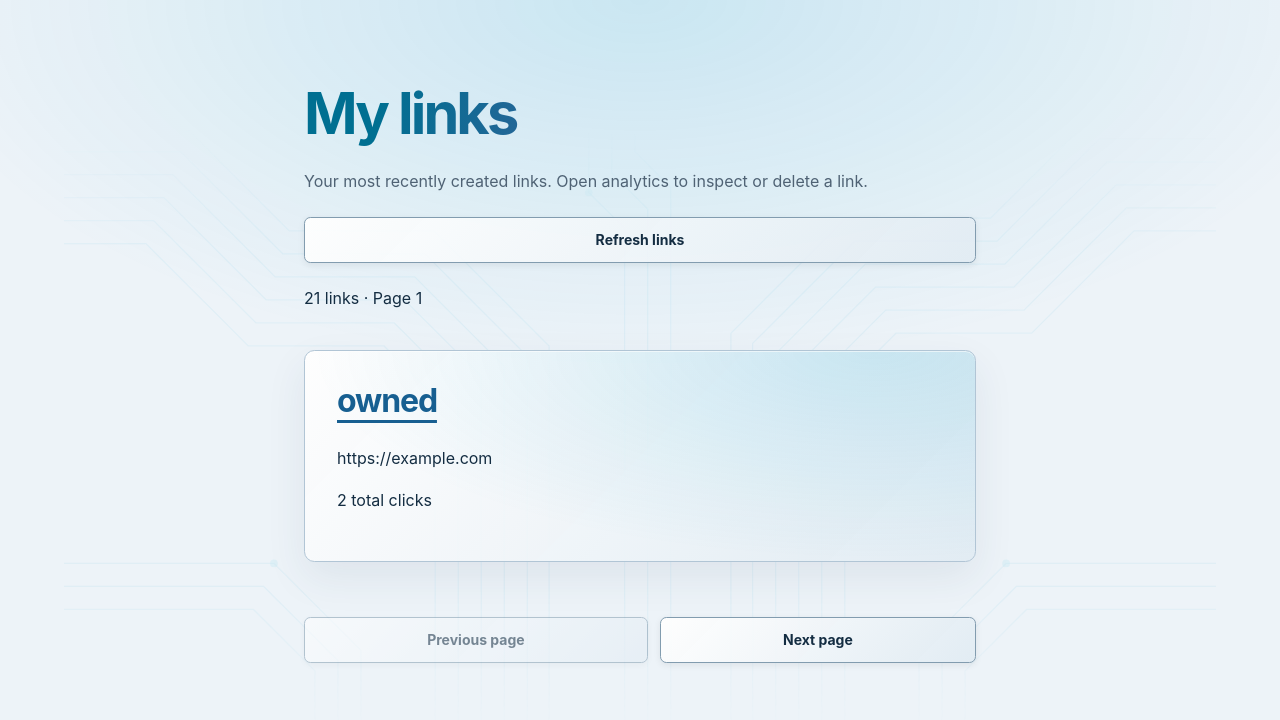
OwnerLinks_pagesOwnedResultsAndLinksToAuthenticatedAnalytics
Click the button "Next page" at (818, 640), box top-left (660, 617), bottom-right (976, 664)
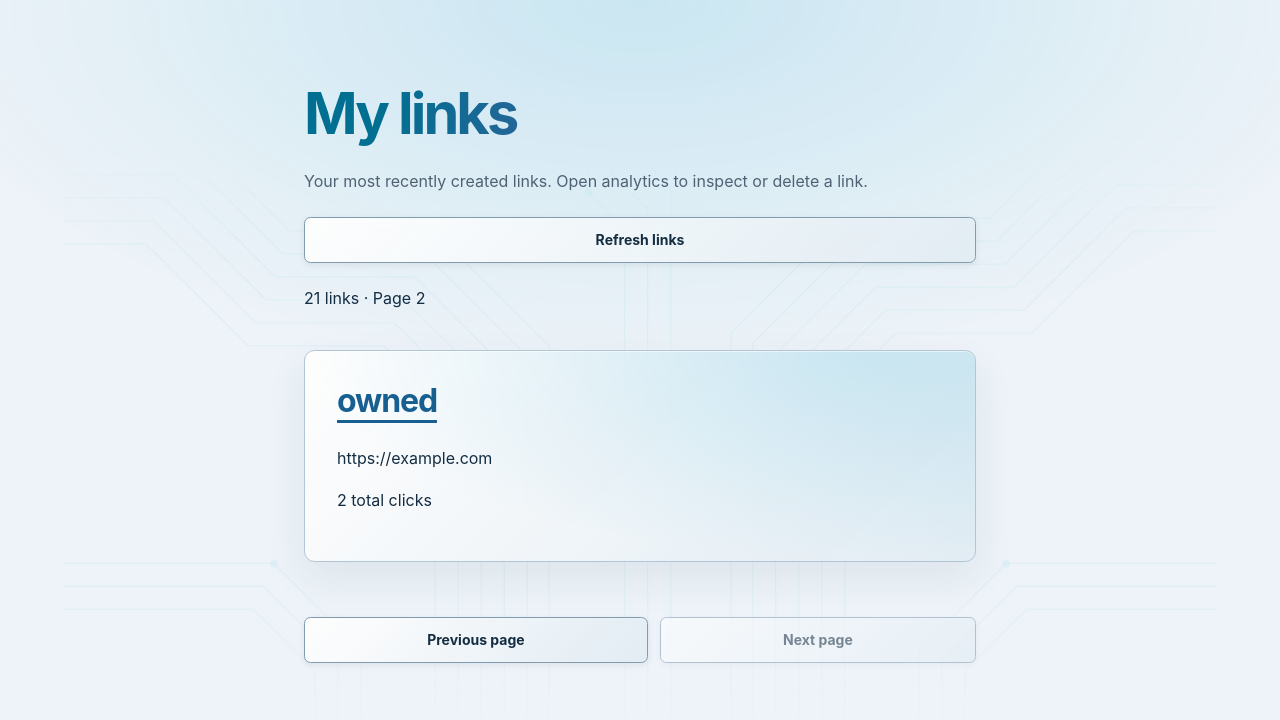
Result: the text "21 links · Page 2" is shown at top-left (304, 288), bottom-right (425, 308)
Result: the button "Next page" is disabled at top-left (660, 617), bottom-right (976, 664)
